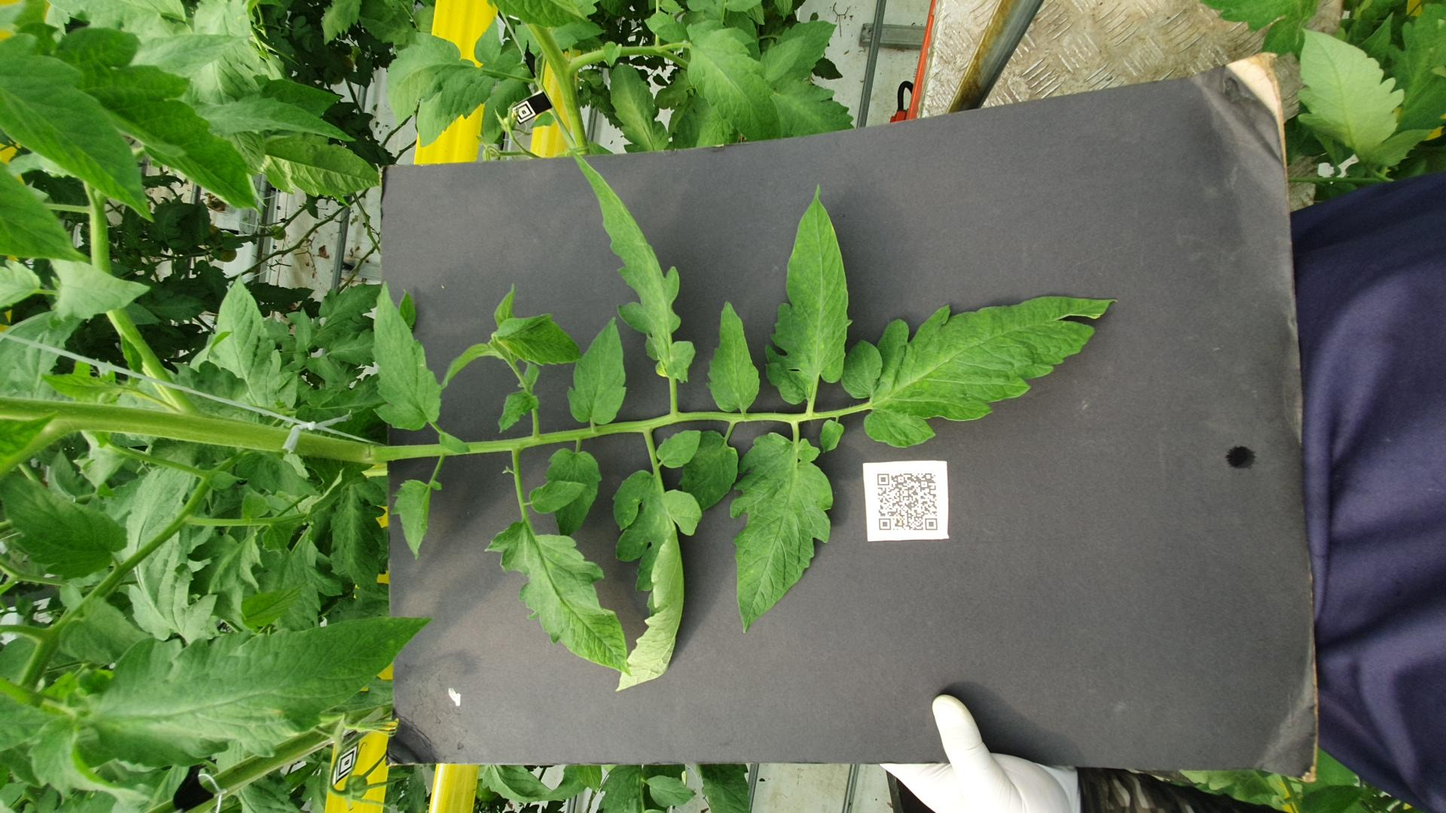Healthy: (649, 473, 919, 629), (1067, 31, 1398, 147), (764, 320, 1185, 391), (1049, 0, 1388, 87), (242, 271, 521, 356), (213, 344, 612, 395), (323, 411, 679, 468), (1148, 729, 1396, 806), (308, 70, 643, 123), (413, 0, 598, 71), (21, 15, 178, 83), (1193, 386, 1399, 437), (680, 209, 946, 248), (710, 117, 960, 158), (1229, 217, 1388, 272), (1191, 108, 1279, 200), (1096, 148, 1207, 215), (391, 184, 589, 218), (690, 319, 883, 352), (876, 28, 987, 85), (1184, 234, 1319, 279), (714, 397, 912, 427), (1173, 342, 1332, 376), (1311, 72, 1386, 142), (492, 307, 650, 338), (538, 381, 682, 415), (1203, 432, 1305, 480), (446, 219, 595, 249), (797, 279, 889, 326), (562, 131, 644, 180), (17, 270, 86, 310), (1301, 427, 1385, 453), (674, 279, 753, 304), (533, 297, 592, 330), (10, 361, 69, 392), (1366, 181, 1446, 203), (795, 185, 863, 210), (613, 369, 682, 393), (1329, 266, 1417, 283), (1370, 362, 1427, 386), (822, 166, 901, 175)
